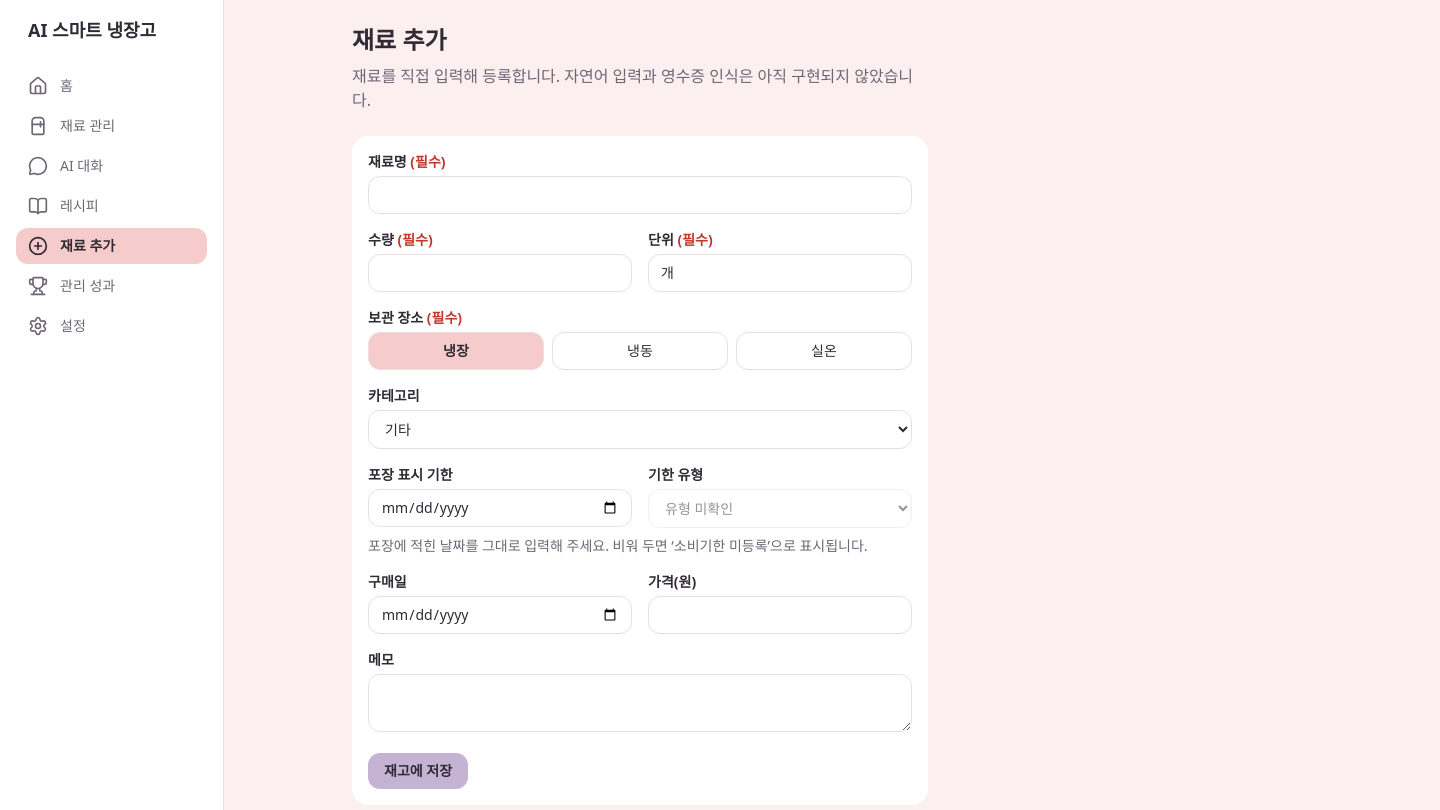
재료 추가 › 저장하면 선택한 보관 장소 탭에 같은 값으로 나타난다
Type "대파" into the field labelled "재료명 (필수)" at (640, 195), box [368,176,912,214]
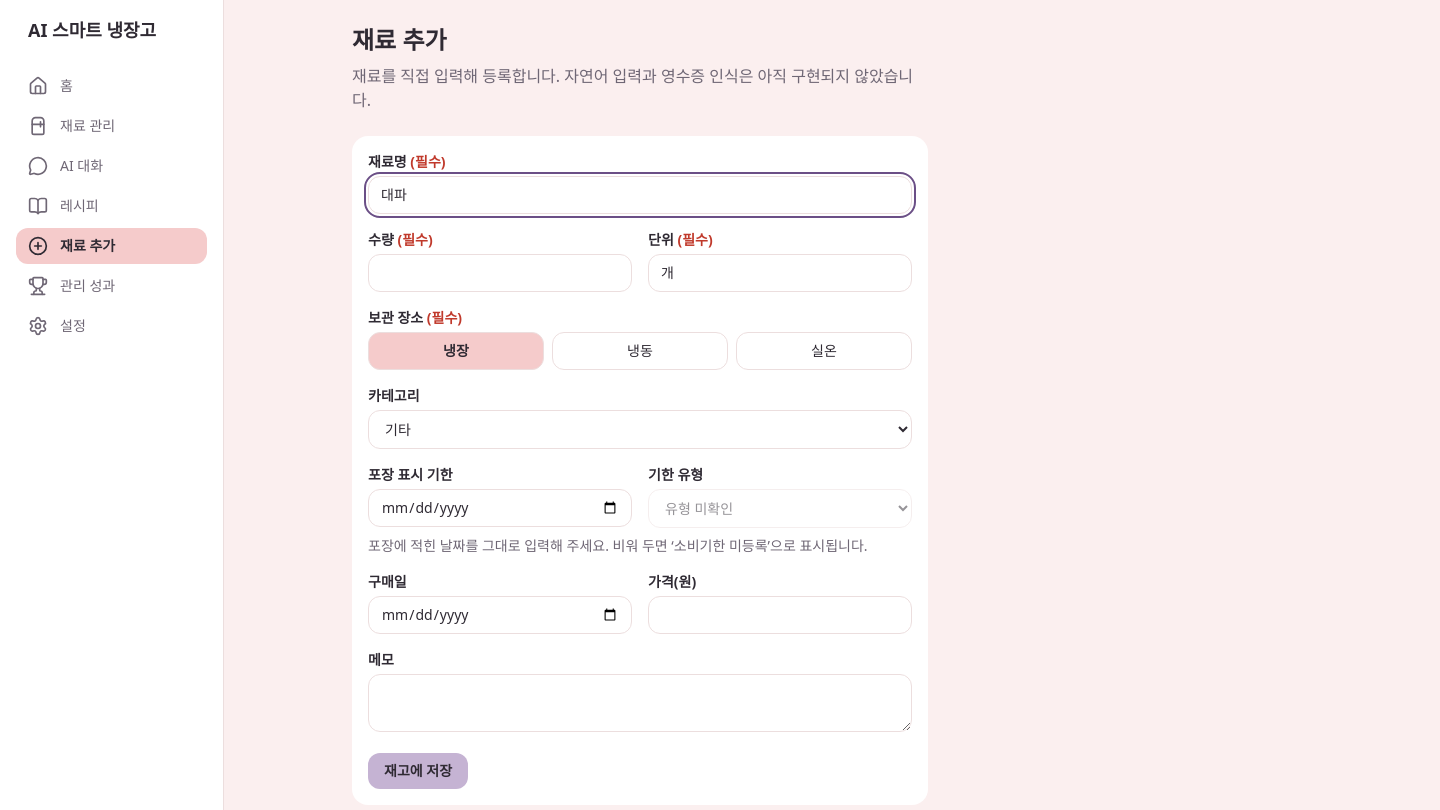
Type "3" into the field labelled "수량 (필수)" at (500, 273), box [368,254,632,292]
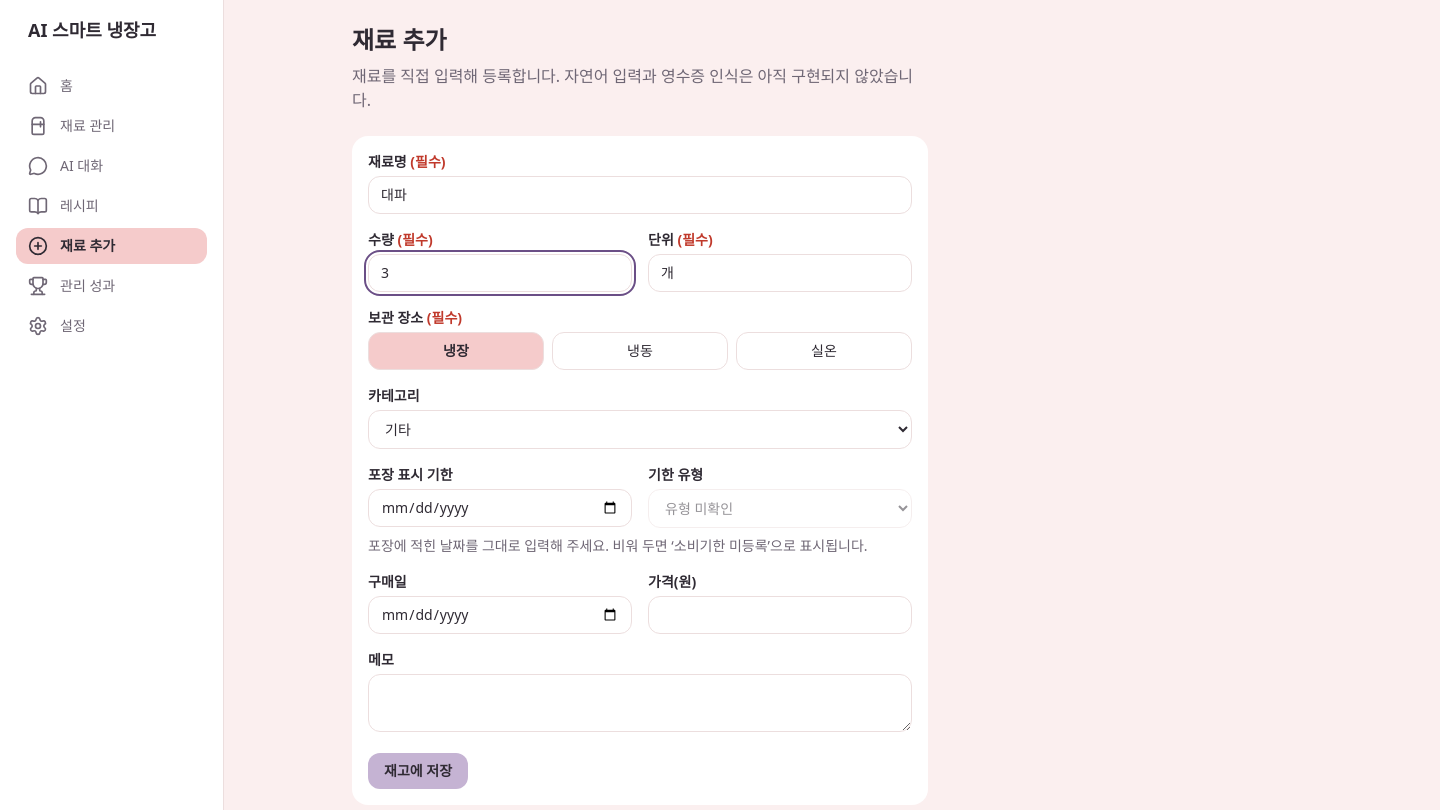
Replace the text in the field labelled "단위 (필수)" with "단" at (780, 273), box [648,254,912,292]
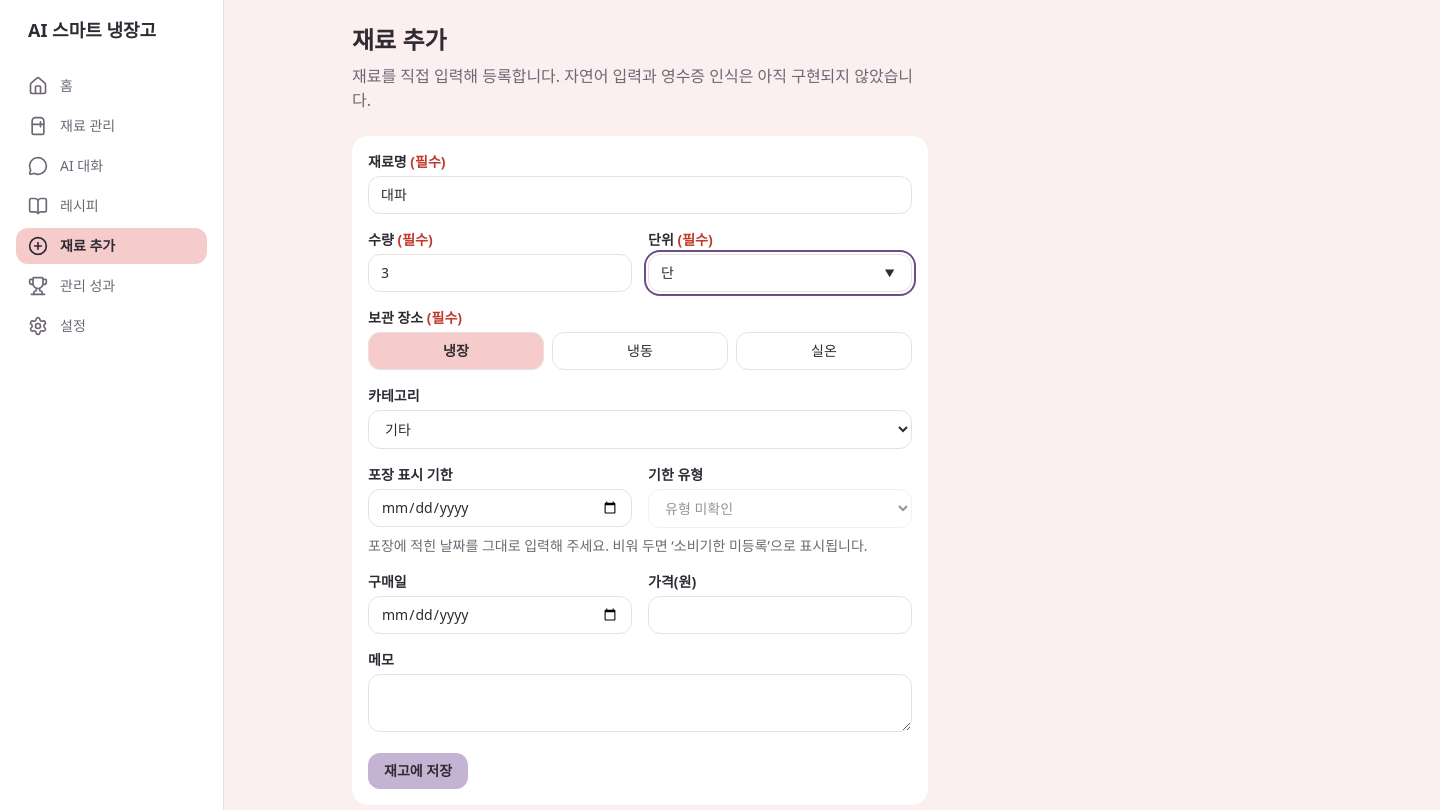
Click the radio button labelled "냉동" at (640, 351), box [552,332,728,370]
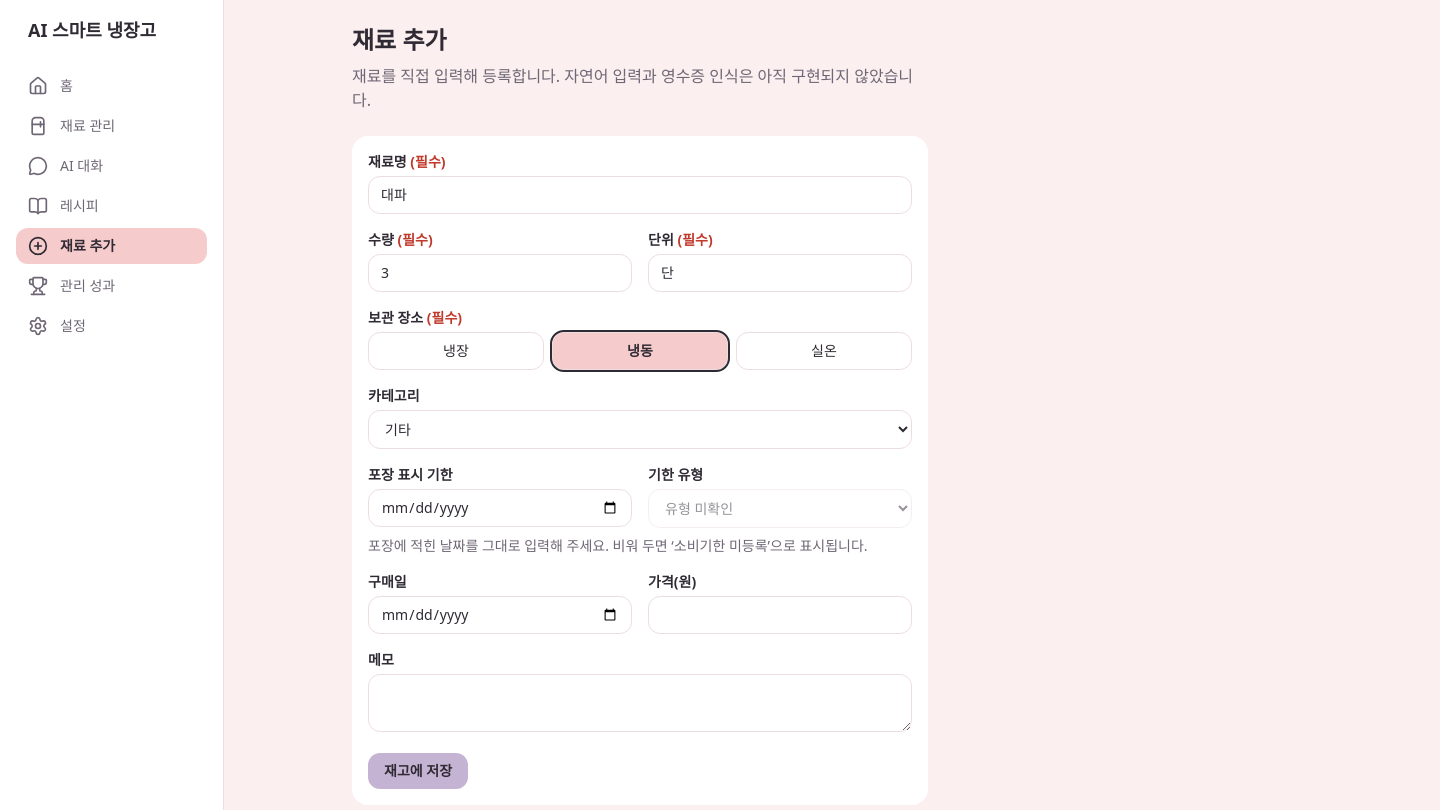
Select "채소" in the dropdown labelled "카테고리" at (640, 430), box [368,410,912,449]
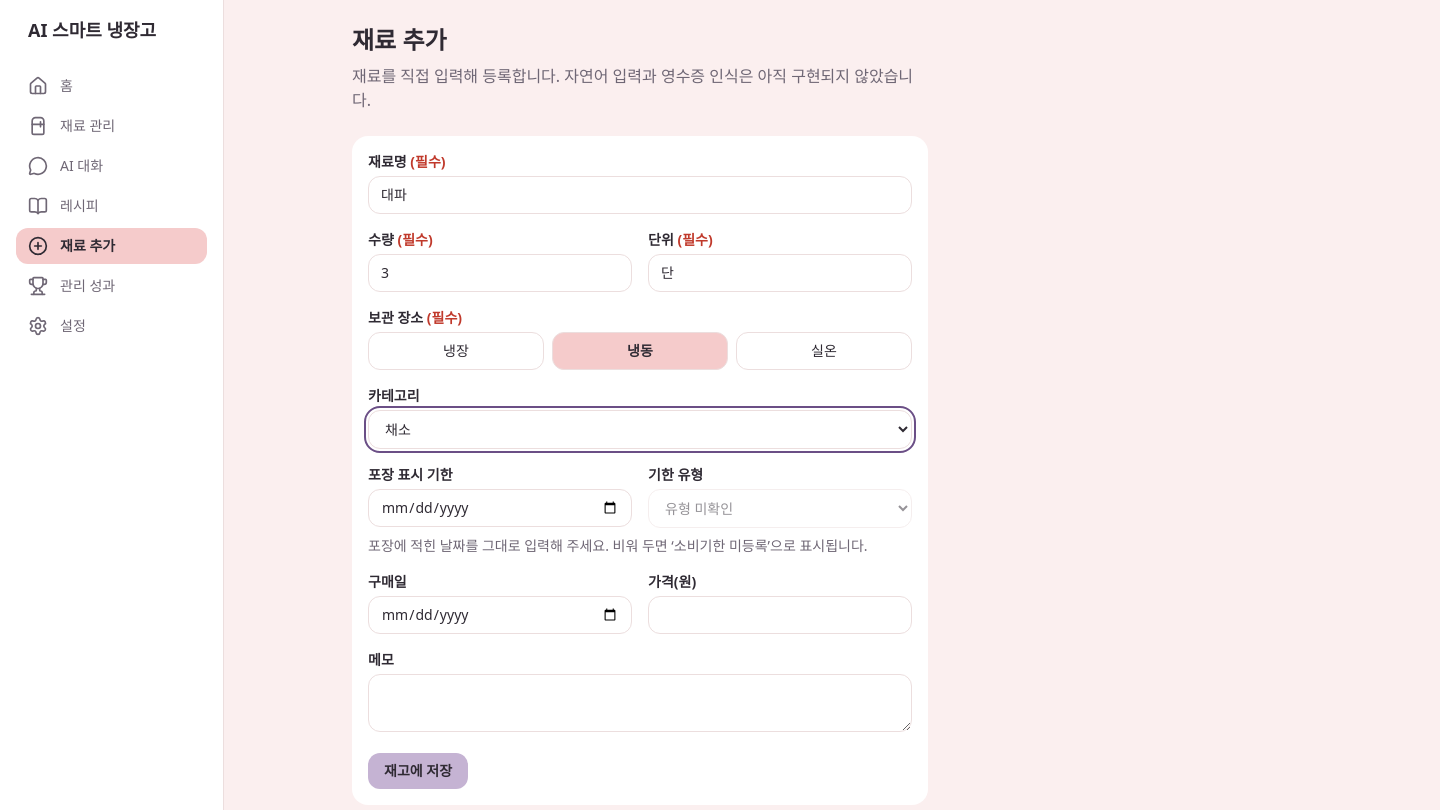
Click the button "재고에 저장" at (418, 771), box [368,753,468,789]
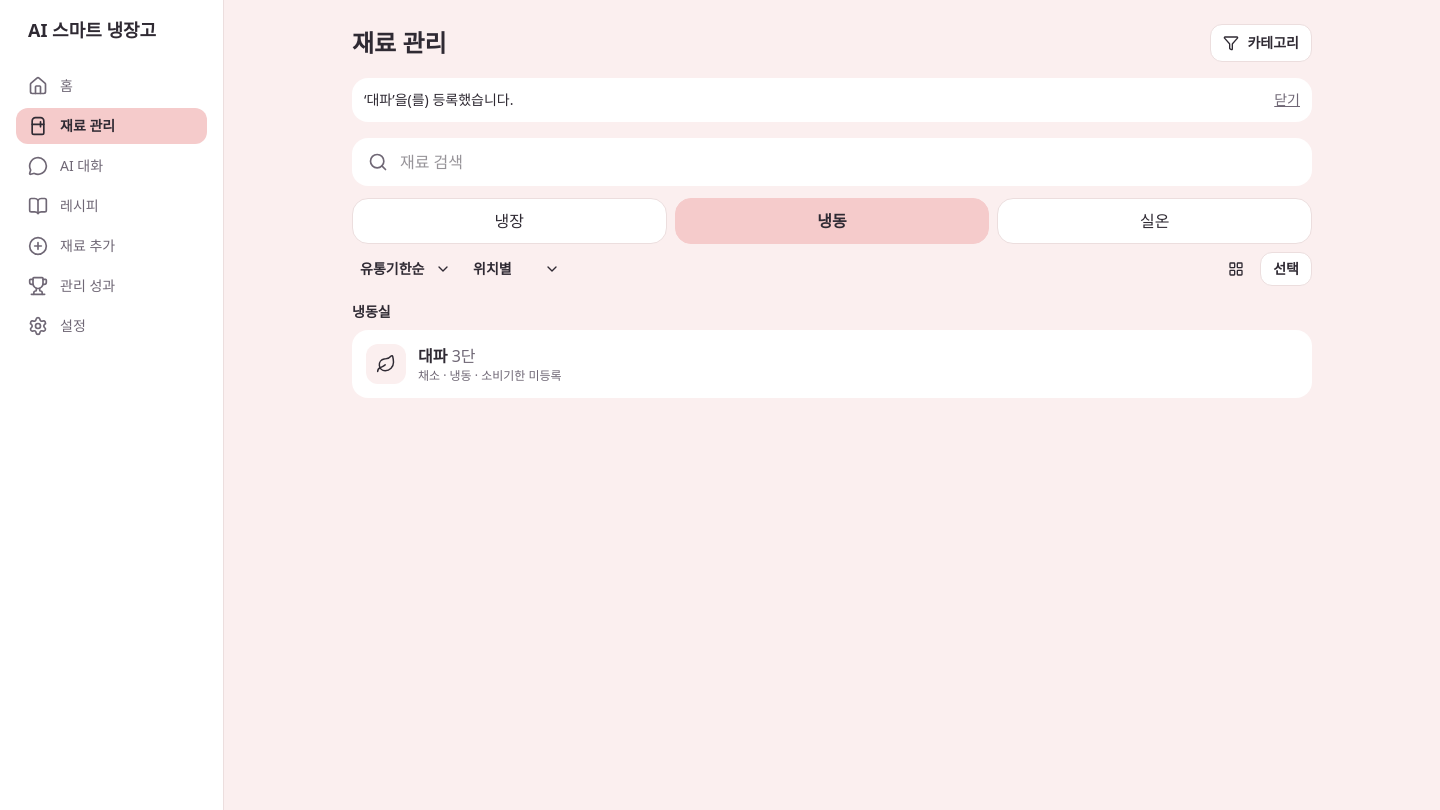
Expected: the message reads "‘대파’을(를) 등록했습니다.", [364,90,514,109]
Expected: the link "대파 3단 채소 · 냉동 · 소비기한 미등록" is shown, [352,330,1312,398]
